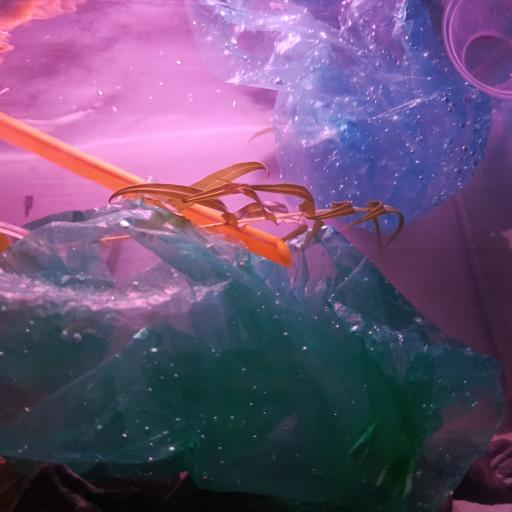plastic_bag: (0, 193, 512, 512), (184, 0, 497, 237)
plastic_cup: (444, 2, 512, 102)
plastic_straw: (0, 110, 294, 263)
